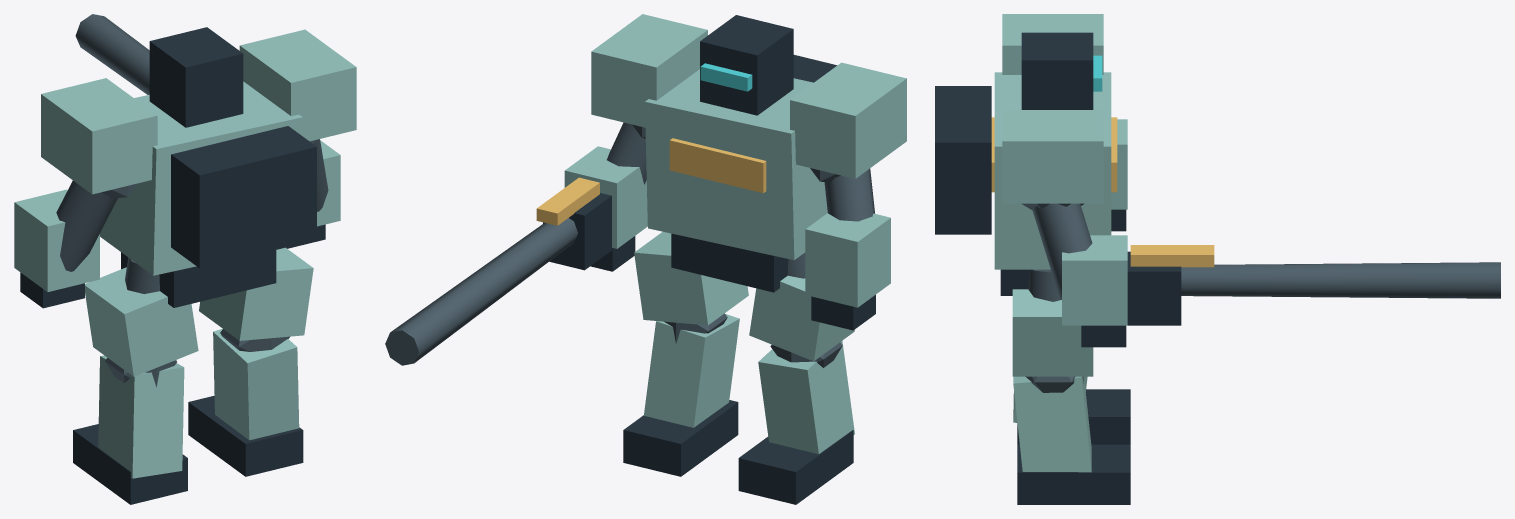
Rendered from frame-deaths-head.glb.
3 renders of one model, left to right at view 1: azimuth 30°, elevation 25°; view 2: azimuth 150°, elevation 25°; view 3: azimuth 270°, elevation 25°, orthographic.
Visible parts, largest first — view 1: frame-deaths-head; view 2: frame-deaths-head; view 3: frame-deaths-head.
Part boxes in pixels (box(x1,y1,x2,y2)): frame-deaths-head: box(14, 14, 356, 504); frame-deaths-head: box(385, 14, 906, 504); frame-deaths-head: box(935, 14, 1500, 504).
Size of the model in its own units: 1.12 by 1.54 by 1.9.
